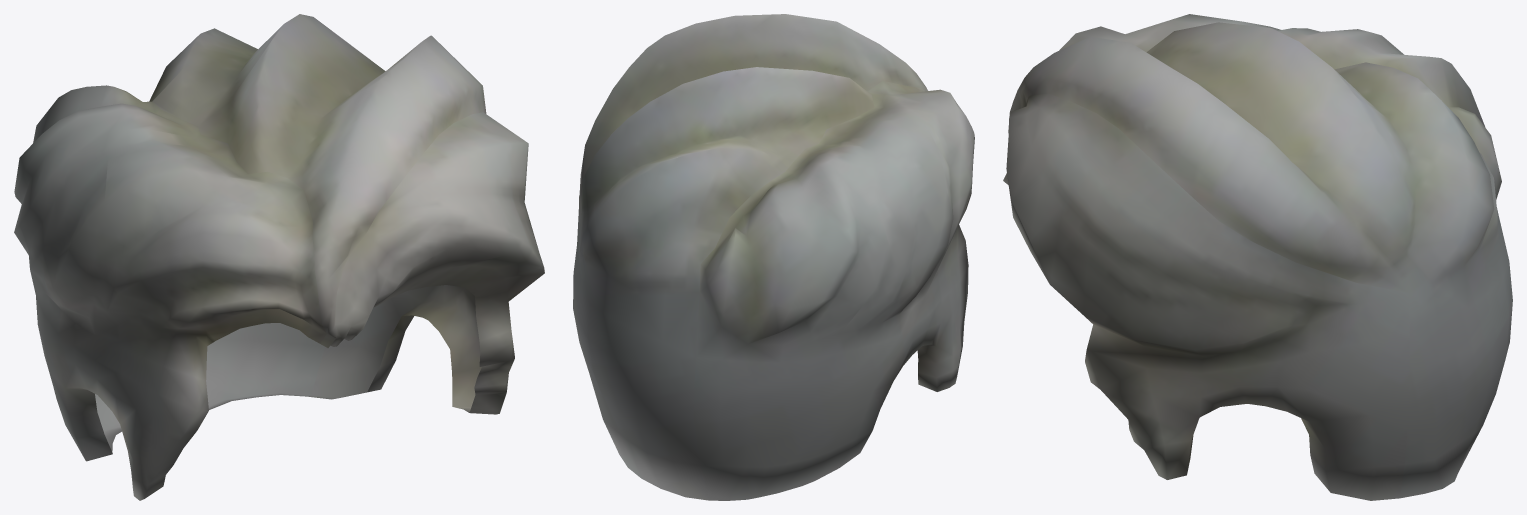
Rendered from hair-simpleparted.glb.
The picture shows the model from 3 angles, left to right: view 1: azimuth 30°, elevation 25°; view 2: azimuth 150°, elevation 25°; view 3: azimuth 270°, elevation 25°; orthographic projection. The views are drawn at different scales.
Visible parts, largest first — view 1: Hair_SimpleParted; view 2: Hair_SimpleParted; view 3: Hair_SimpleParted.
Boxes of the visible parts, x1,y1,x2,y2 form: Hair_SimpleParted: (14,14,544,500); Hair_SimpleParted: (573,14,974,500); Hair_SimpleParted: (1003,14,1512,500).
Size of the model in its own units: 0.1754 by 0.1792 by 0.1869.
Materials: 1 (1 with a texture image).
